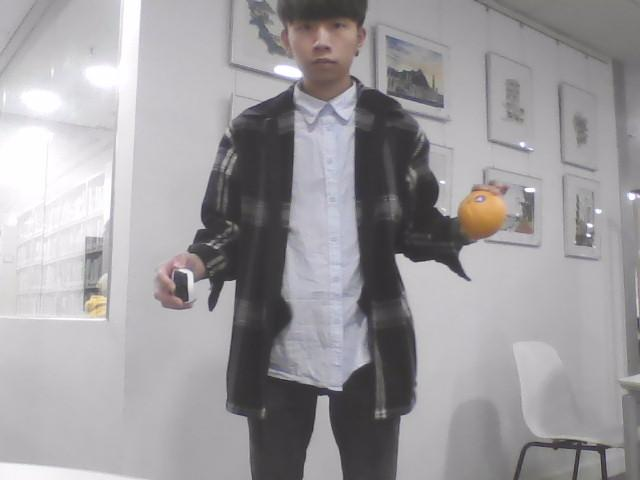orange: (458, 191, 507, 238)
